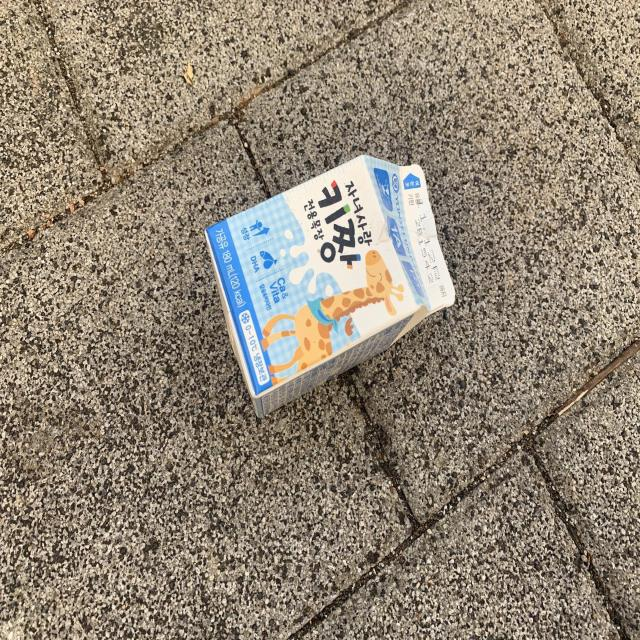paperpack: (206, 155, 456, 417)
